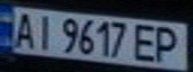1: (93, 18, 112, 56)
6: (75, 17, 96, 55)
7: (109, 19, 133, 58)
9: (57, 15, 81, 53)
A: (9, 9, 39, 50)
E: (130, 21, 163, 63)
I: (30, 11, 57, 51)
P: (151, 24, 187, 64)
